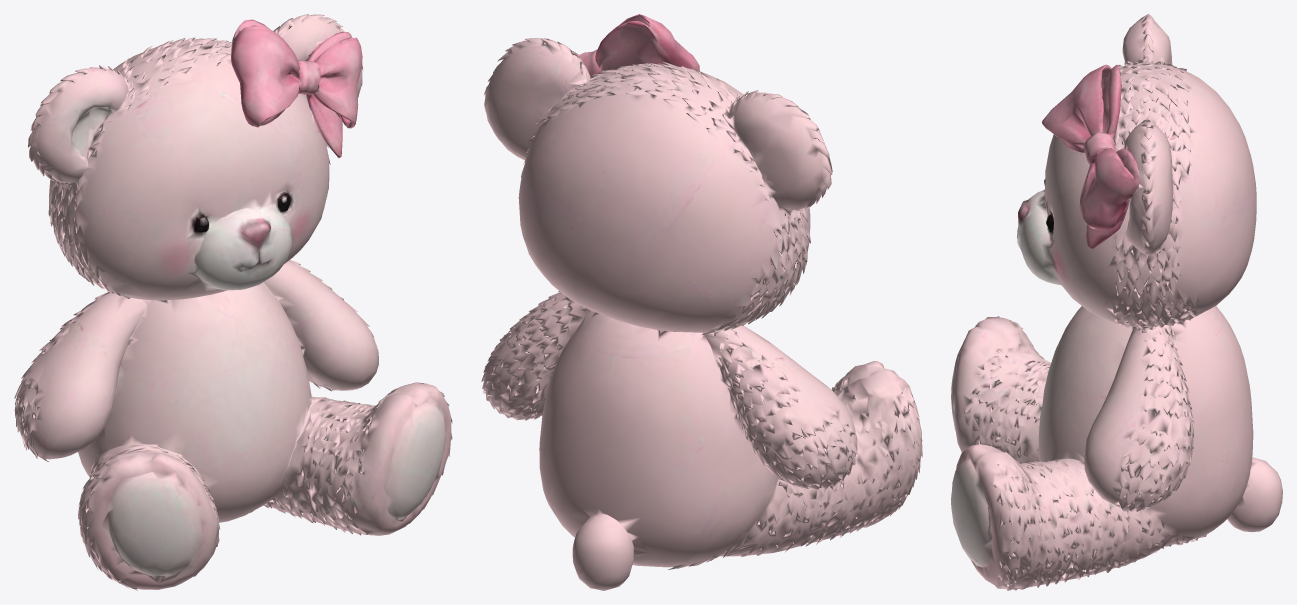
3 renders of one model, left to right at view 1: azimuth 30°, elevation 25°; view 2: azimuth 150°, elevation 25°; view 3: azimuth 270°, elevation 25°, orthographic. The views are drawn at different scales.
Size of the model in its own units: 1.51 by 1.9 by 1.2.
Materials: 1 (1 with a texture image).
